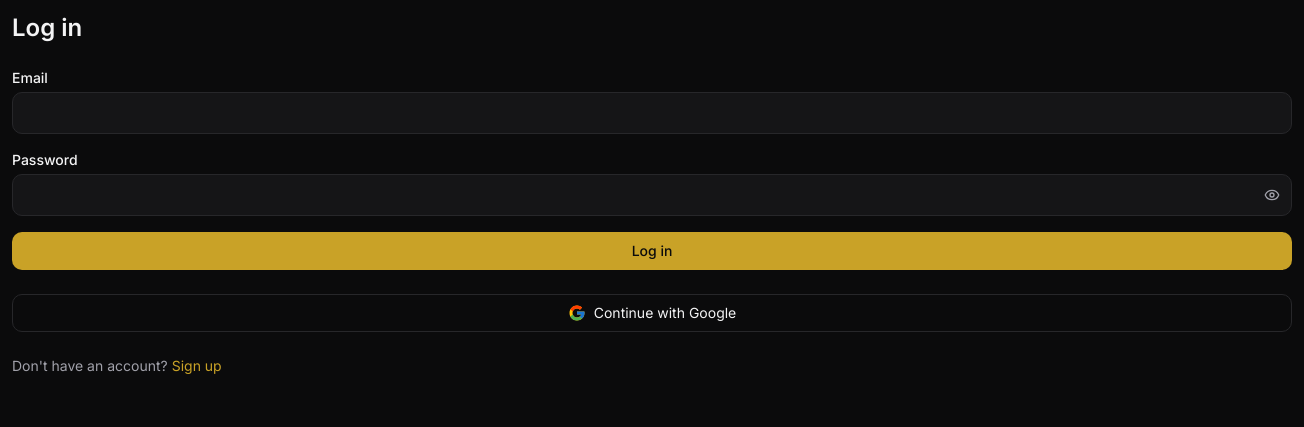
LoginForm › shows the error message returned by the login action
This screenshot has width=1304, height=427.
Type "user@example.com" into the field labelled "Email".
click(652, 113); type("user@example.com")  # box [12,92,1292,134]
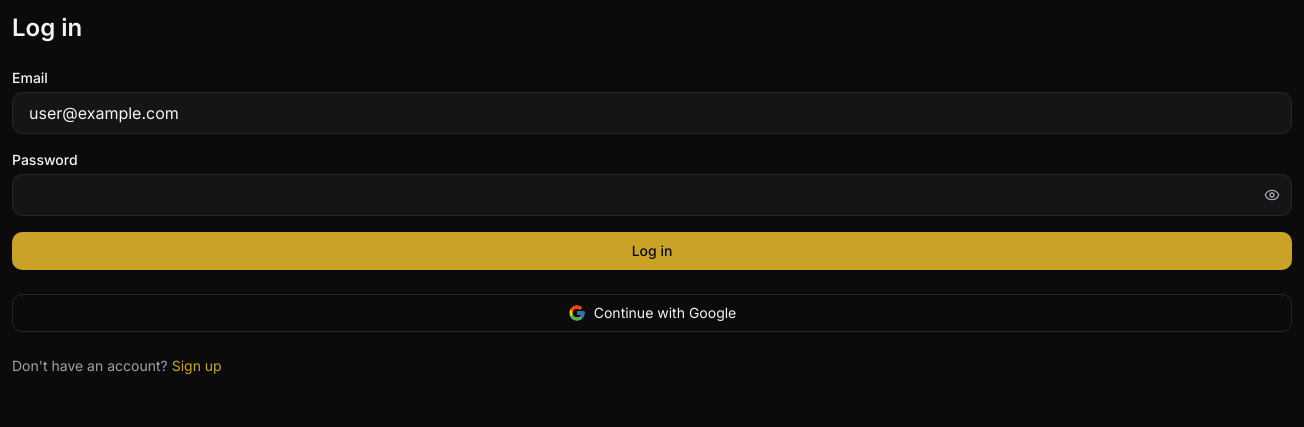
Type "secret123" into the password field labelled "Password".
click(652, 195); type("secret123")  # box [12,174,1292,216]
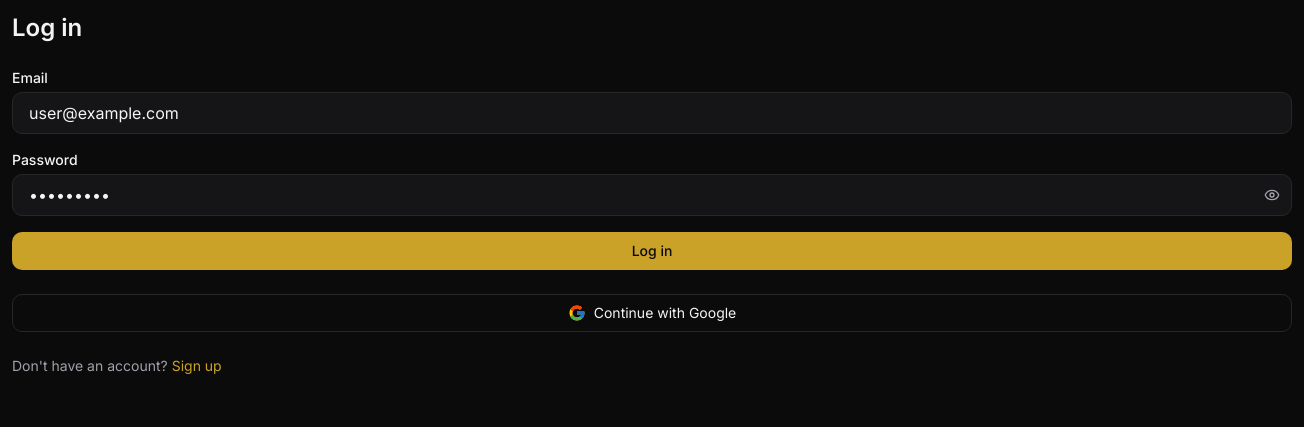
Click the button "Log in".
click(652, 251)  # box [12,232,1292,270]
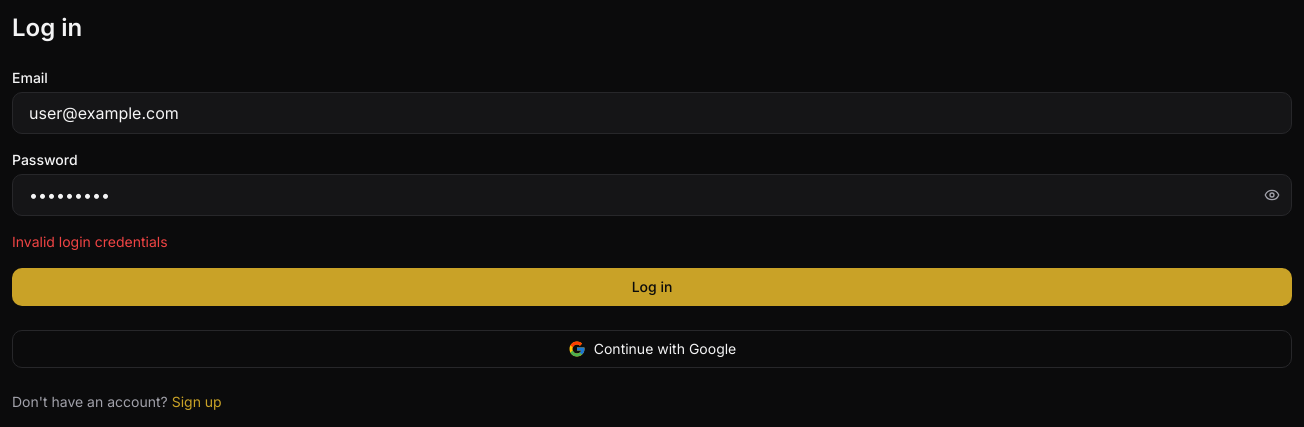
Now the message reads "Invalid login credentials", box [12,233,168,250]
